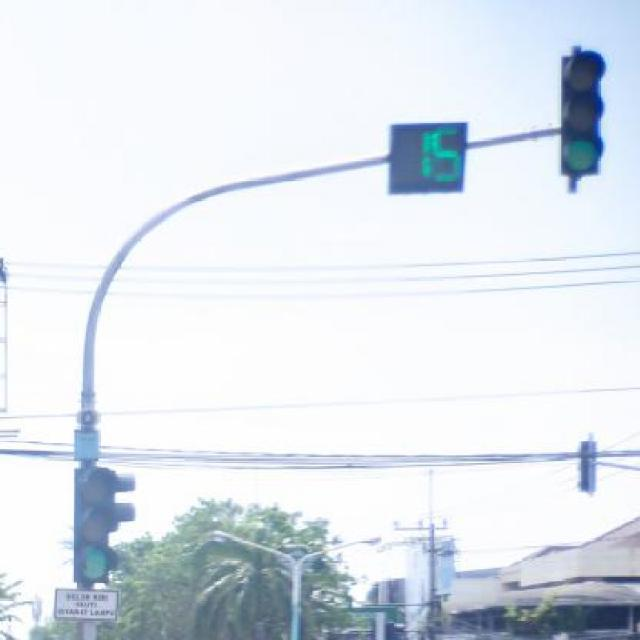traffic light: (562, 49, 602, 182), (73, 469, 119, 583)
